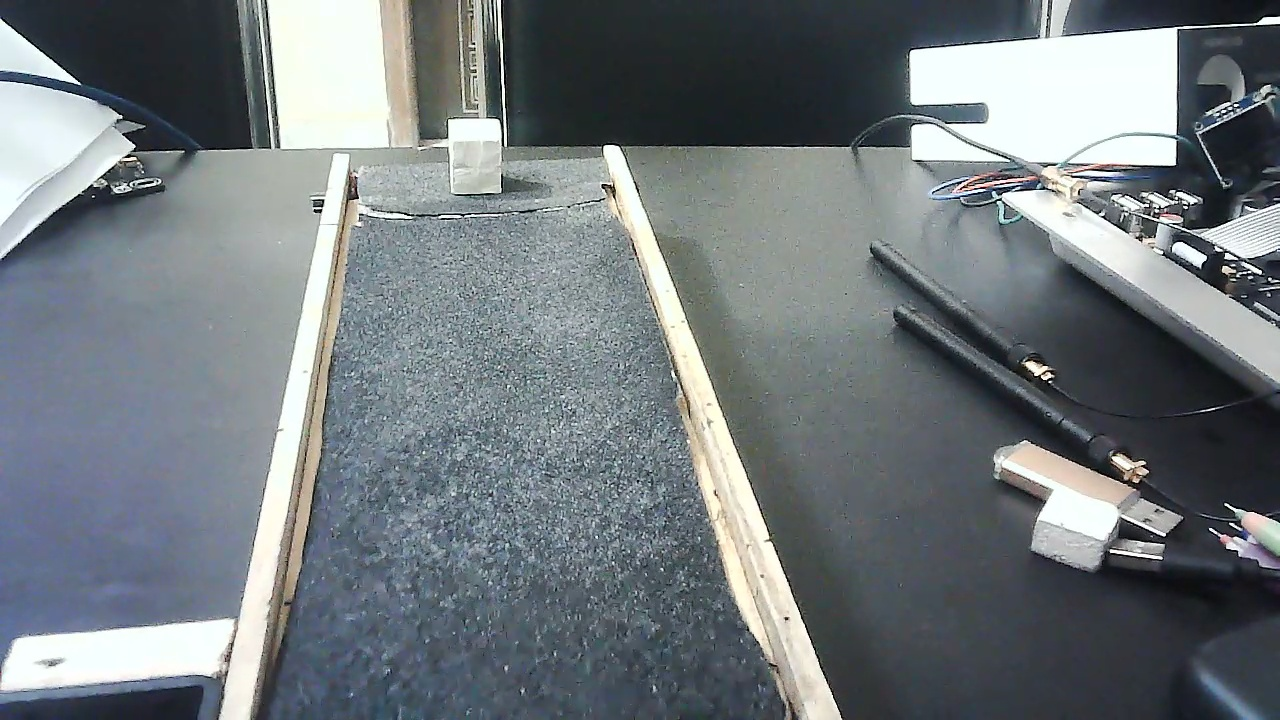Small: (438, 119, 513, 194)
